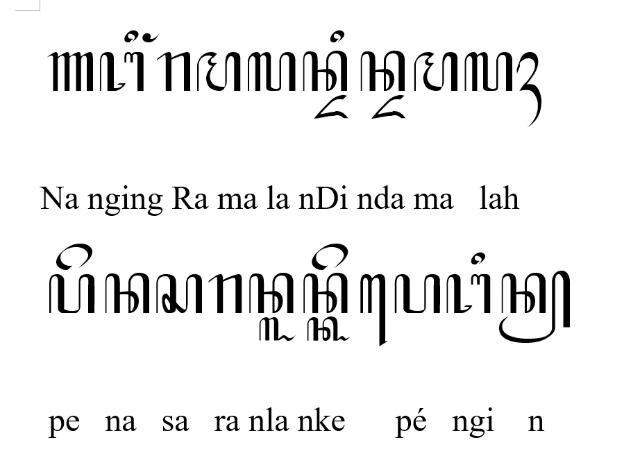-n: (498, 270, 570, 344)
N: (47, 52, 93, 92)
_d: (314, 95, 348, 119), (371, 95, 405, 119)
_h1: (516, 52, 542, 128)
_k: (307, 316, 351, 342)
_l: (258, 316, 296, 342)
e: (310, 242, 348, 269), (56, 243, 92, 271)
e1: (360, 274, 388, 346)
i: (124, 29, 138, 42), (330, 29, 344, 42), (471, 252, 485, 264)
l: (463, 52, 513, 92), (248, 52, 296, 92)
m: (414, 51, 458, 91), (197, 52, 240, 92)
n: (302, 51, 348, 92), (360, 51, 406, 92), (104, 273, 150, 314), (302, 273, 348, 314)
ng: (142, 32, 160, 42)
nga: (100, 51, 144, 91), (446, 274, 490, 314)
p: (394, 274, 442, 314), (49, 274, 95, 314)
r: (156, 51, 190, 91), (208, 274, 242, 314)
s: (249, 273, 295, 314), (156, 274, 202, 314)
